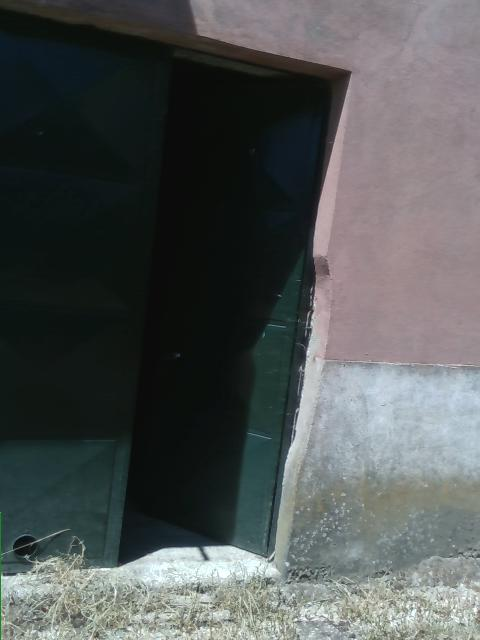semi_door: (3, 9, 354, 581)
